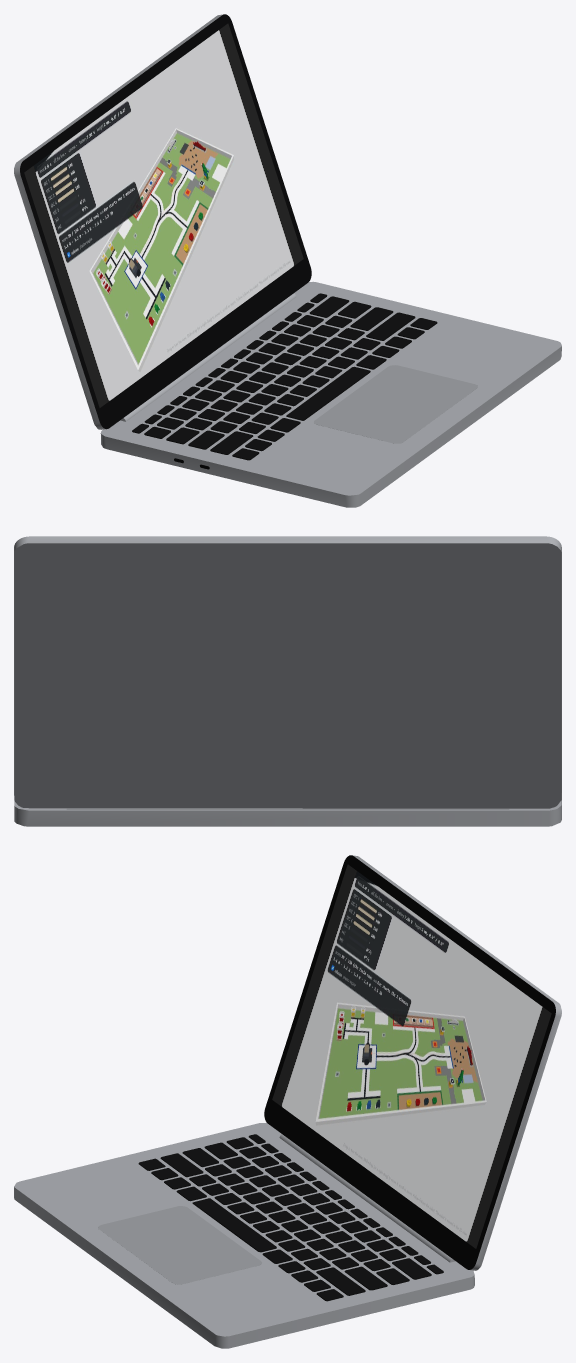
File: scene_site_sim.glb
3 views of the same model, one above another, from view 1: azimuth 30°, elevation 25°; view 2: azimuth 150°, elevation 25°; view 3: azimuth 270°, elevation 25° (orthographic). The views are drawn at different scales.
Visible parts, largest first — view 1: lego_site_sim_0_laptop_screen, lego_site_sim_0_laptop_base, lego_site_sim_0_laptop_keycaps, lego_site_sim_0_laptop_lid, lego_site_sim_0_laptop_trackpad, lego_site_sim_0_laptop_hinge; view 2: lego_site_sim_0_laptop_lid, lego_site_sim_0_laptop_base, lego_site_sim_0_laptop_hinge; view 3: lego_site_sim_0_laptop_screen, lego_site_sim_0_laptop_base, lego_site_sim_0_laptop_keycaps, lego_site_sim_0_laptop_lid, lego_site_sim_0_laptop_trackpad, lego_site_sim_0_laptop_hinge.
Boxes of the visible parts, bbox=[...] form: lego_site_sim_0_laptop_screen: bbox=[24, 23, 303, 407]; lego_site_sim_0_laptop_base: bbox=[100, 281, 561, 507]; lego_site_sim_0_laptop_keycaps: bbox=[132, 293, 437, 460]; lego_site_sim_0_laptop_lid: bbox=[14, 14, 311, 429]; lego_site_sim_0_laptop_trackpad: bbox=[314, 365, 477, 443]; lego_site_sim_0_laptop_hinge: bbox=[120, 293, 296, 421]; lego_site_sim_0_laptop_lid: bbox=[14, 536, 561, 808]; lego_site_sim_0_laptop_base: bbox=[14, 793, 561, 826]; lego_site_sim_0_laptop_hinge: bbox=[66, 808, 509, 809]; lego_site_sim_0_laptop_screen: bbox=[272, 864, 551, 1248]; lego_site_sim_0_laptop_base: bbox=[14, 1122, 474, 1348]; lego_site_sim_0_laptop_keycaps: bbox=[138, 1134, 443, 1301]; lego_site_sim_0_laptop_lid: bbox=[264, 855, 561, 1270]; lego_site_sim_0_laptop_trackpad: bbox=[98, 1206, 261, 1284]; lego_site_sim_0_laptop_hinge: bbox=[279, 1134, 455, 1262].
Size of the model in its own units: 4.12 by 2.15 by 4.05.
Materials: 7 (1 with a texture image).
